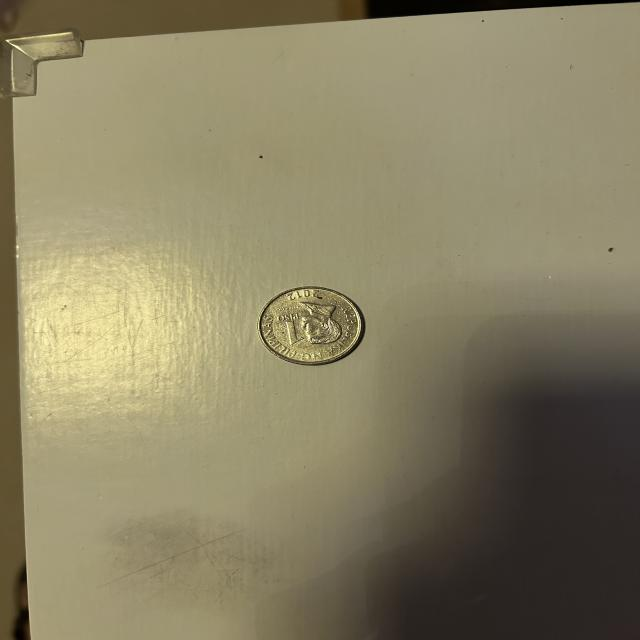1_Old_Front: (276, 312, 309, 346)
